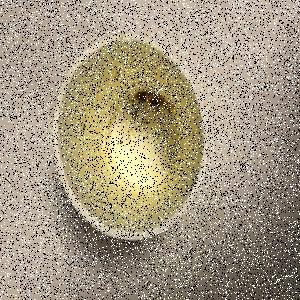Cup: (53, 34, 211, 242)
